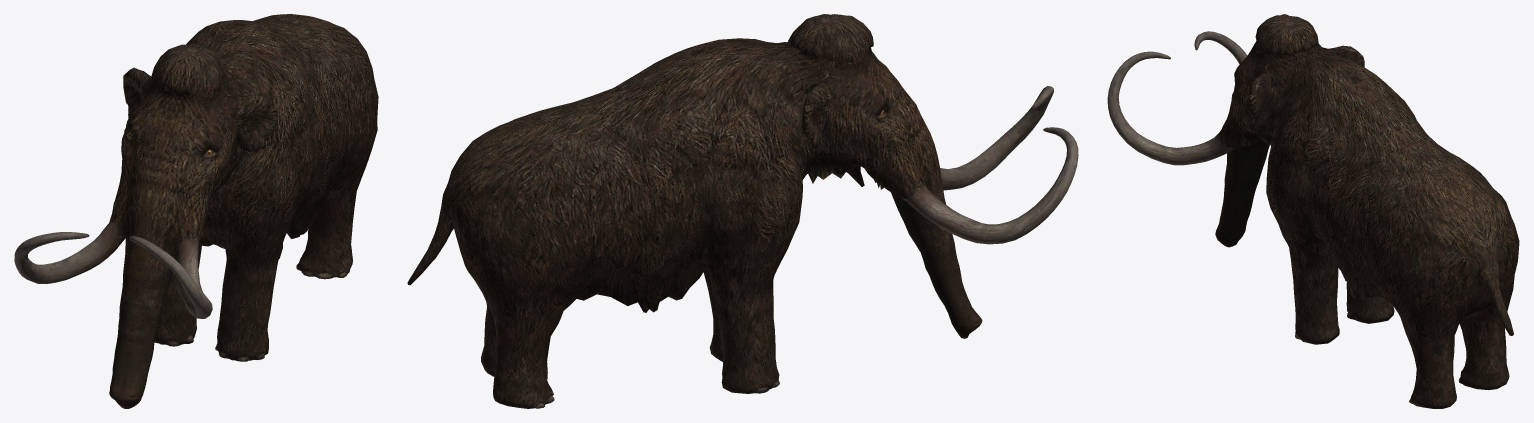
The model's file is Mamothv2.glb.
The picture shows the model from 3 angles, left to right: view 1: azimuth 30°, elevation 25°; view 2: azimuth 150°, elevation 25°; view 3: azimuth 270°, elevation 25°; orthographic projection. The views are drawn at different scales.
Parts seen in each view (by area): view 1: Object_83; view 2: Object_83; view 3: Object_83.
Boxes of the visible parts, x1=… form: Object_83: x1=14, y1=14, x2=378, y2=408; Object_83: x1=407, y1=14, x2=1078, y2=408; Object_83: x1=1107, y1=14, x2=1519, y2=408.
Bounding box in the file's own units: 2.38 × 1.57 × 2.05.
Materials: 1 (1 with a texture image).
